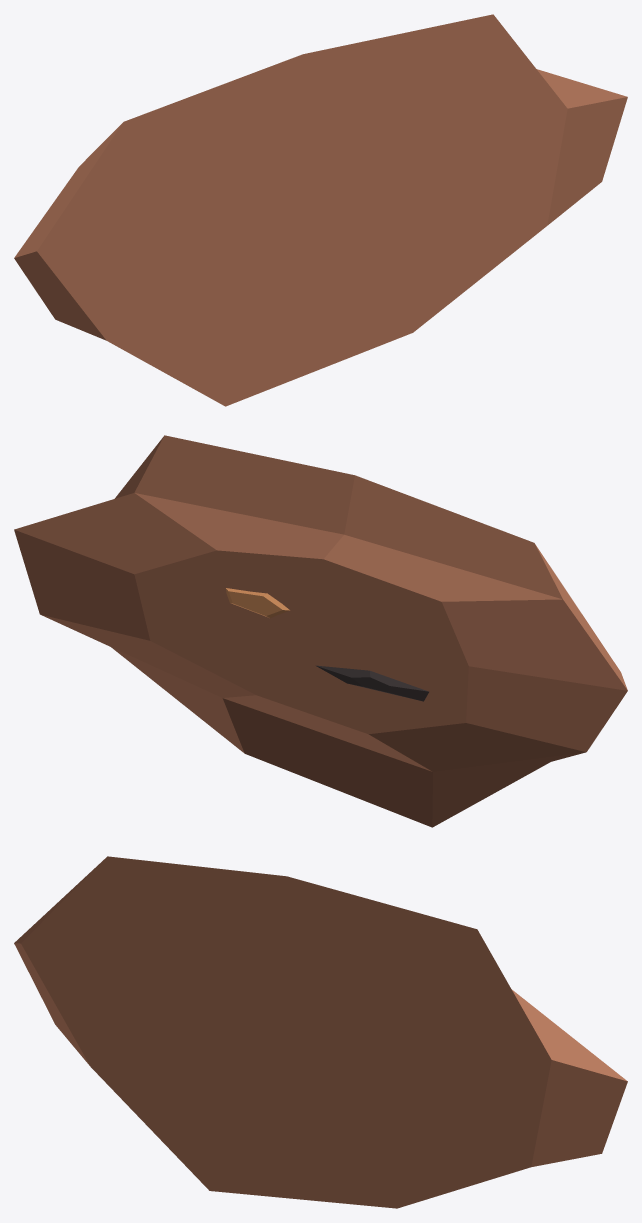
Rendered from CrashBasinGroundB.fbx.
3 renders of one model, top to bottom at view 1: azimuth 30°, elevation 25°; view 2: azimuth 150°, elevation 25°; view 3: azimuth 330°, elevation 25°, orthographic.
Visible parts, largest first — view 1: GroundChunk; view 2: GroundChunk, GroundCrack, GroundFacet; view 3: GroundChunk.
Part boxes in pixels (x1,y1,x2,y2): GroundChunk: (14,14,627,406); GroundChunk: (14,435,627,827); GroundCrack: (316,665,428,701); GroundFacet: (225,588,289,618); GroundChunk: (14,856,627,1208).
Bounding box in the file's own units: 534 × 277 × 32.
